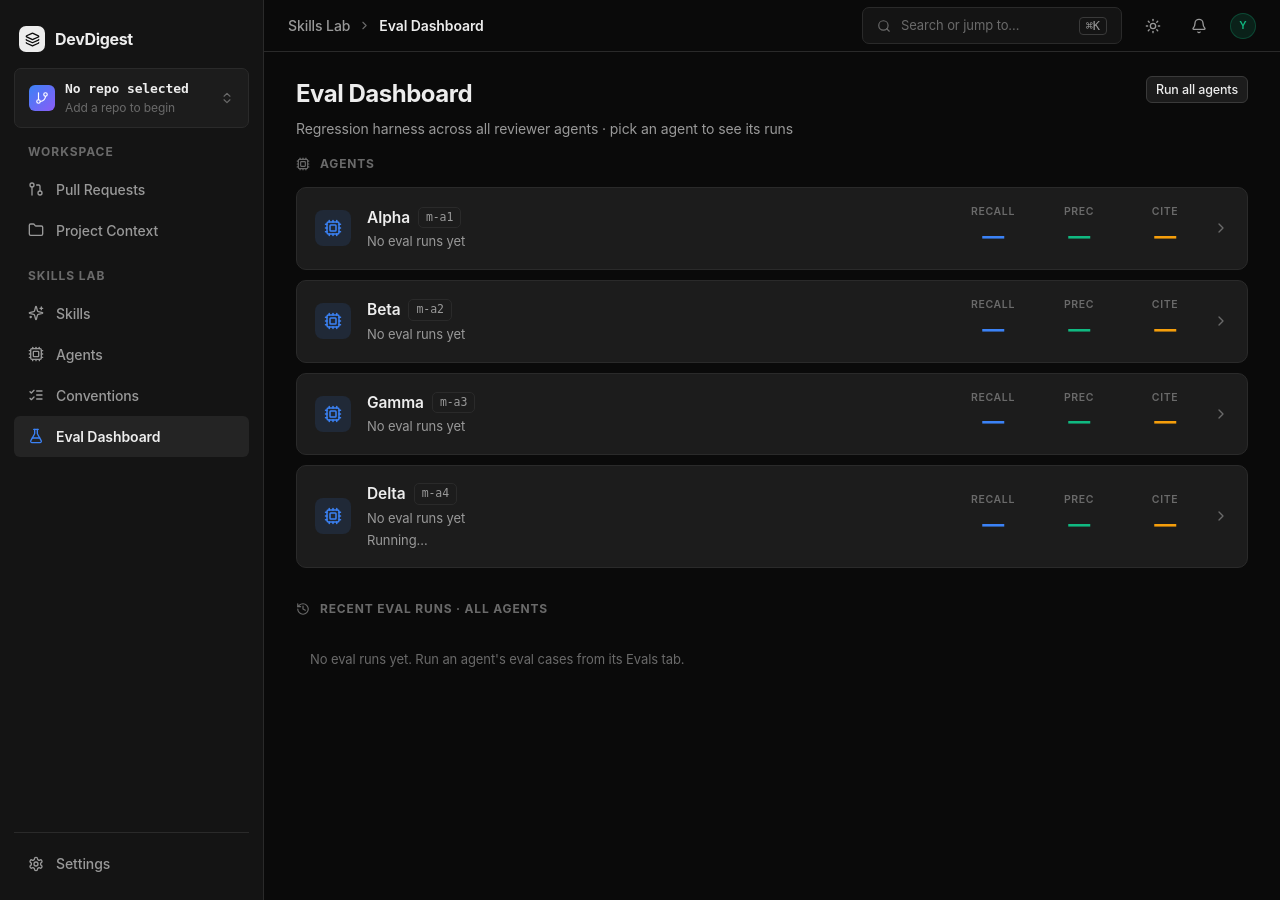
Test: EvalDashboard › Run all agents › summarises eligible agents and names the ones left out, sending nothing yet (AC-75)
The width and height of the screenshot is (1280, 900).
Expected: the text "m-a1" is shown, [418,206,461,228]
Click the button "Run all agents" at (1197,90), box [1146,76,1248,103]
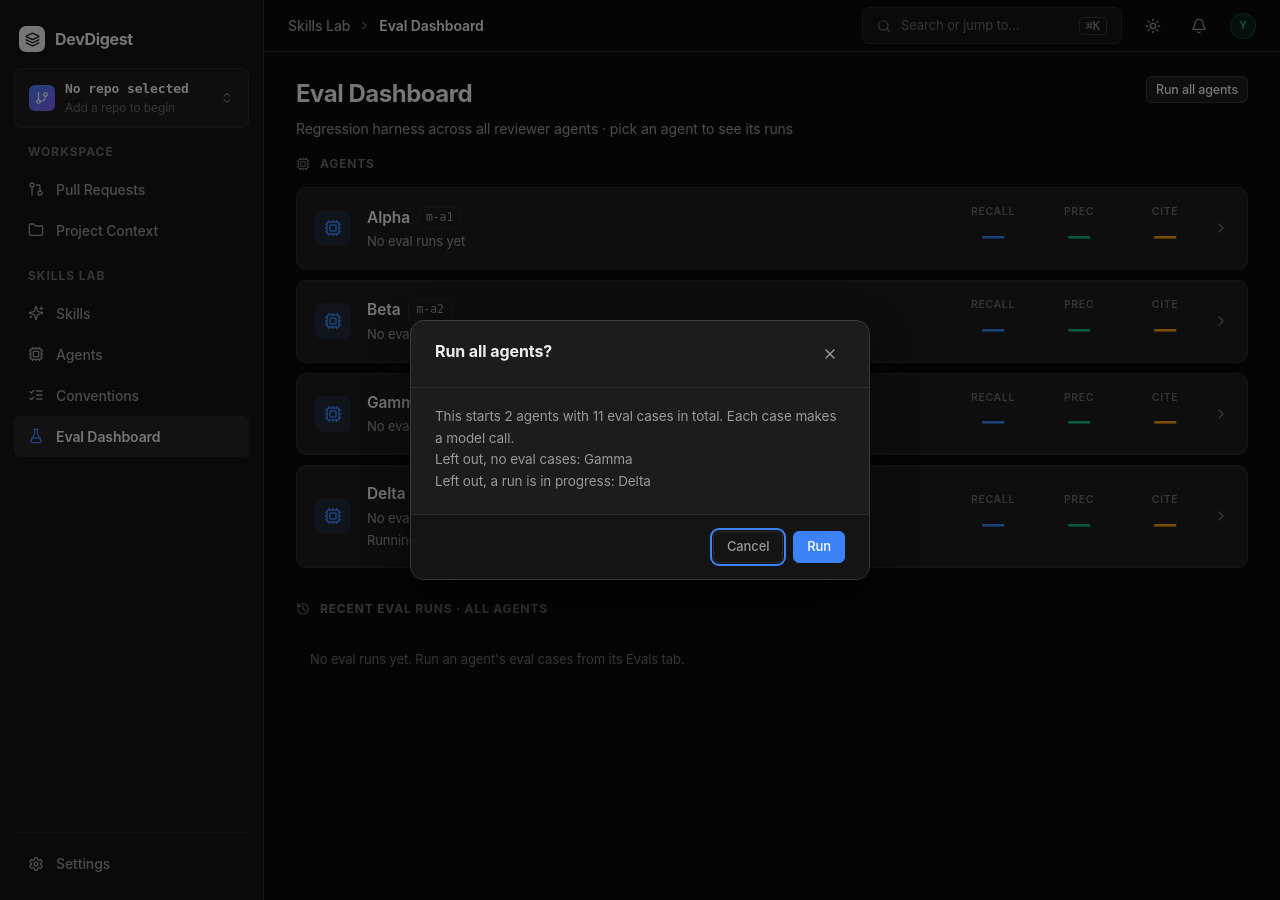
Expected: the text "2 agents" shows "11 eval cases", [435,408,836,446]
Expected: the text "Left out, no eval cases: Gamma" is shown, [435,451,632,467]
Expected: the text "Left out, a run is in progress: Delta" is shown, [435,473,651,489]
